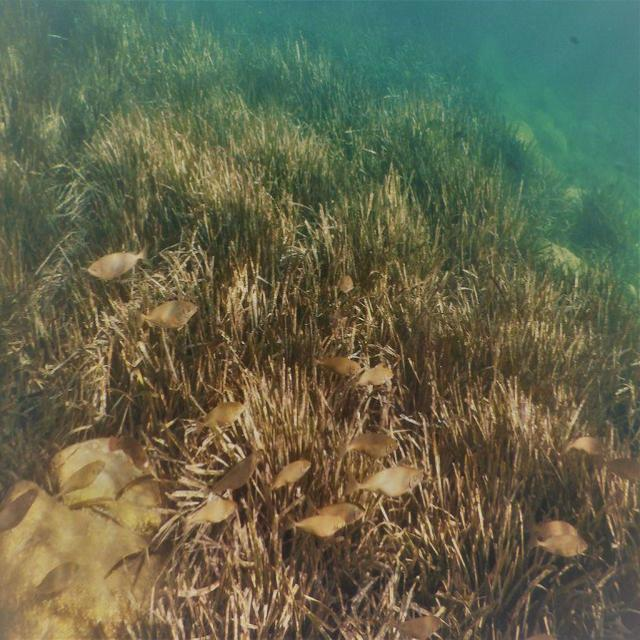Sokar Baligi: (512, 497, 602, 575), (76, 225, 160, 292)
